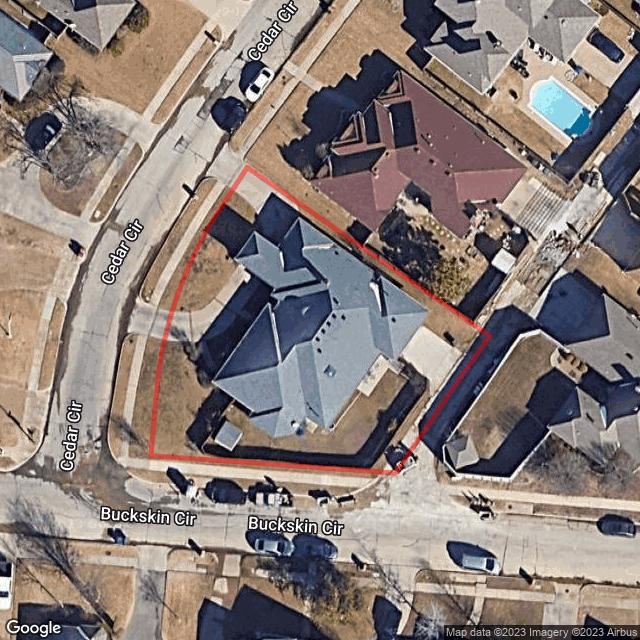Driveway: (167, 265, 264, 343), (401, 326, 472, 413), (233, 170, 300, 248)
Extra Driveway: (125, 293, 169, 339), (206, 142, 246, 188)
Extra Lawn: (141, 177, 218, 304), (158, 186, 231, 312), (126, 468, 362, 497), (149, 458, 378, 479), (129, 335, 162, 460), (108, 333, 139, 458)
Extra Sidewalk: (117, 333, 394, 489), (150, 180, 225, 308)
House: (215, 209, 424, 436)
Other: (214, 421, 242, 451)
Sidewalk: (384, 397, 434, 470), (358, 355, 428, 396), (197, 340, 218, 379), (465, 332, 485, 358), (238, 307, 257, 325)
